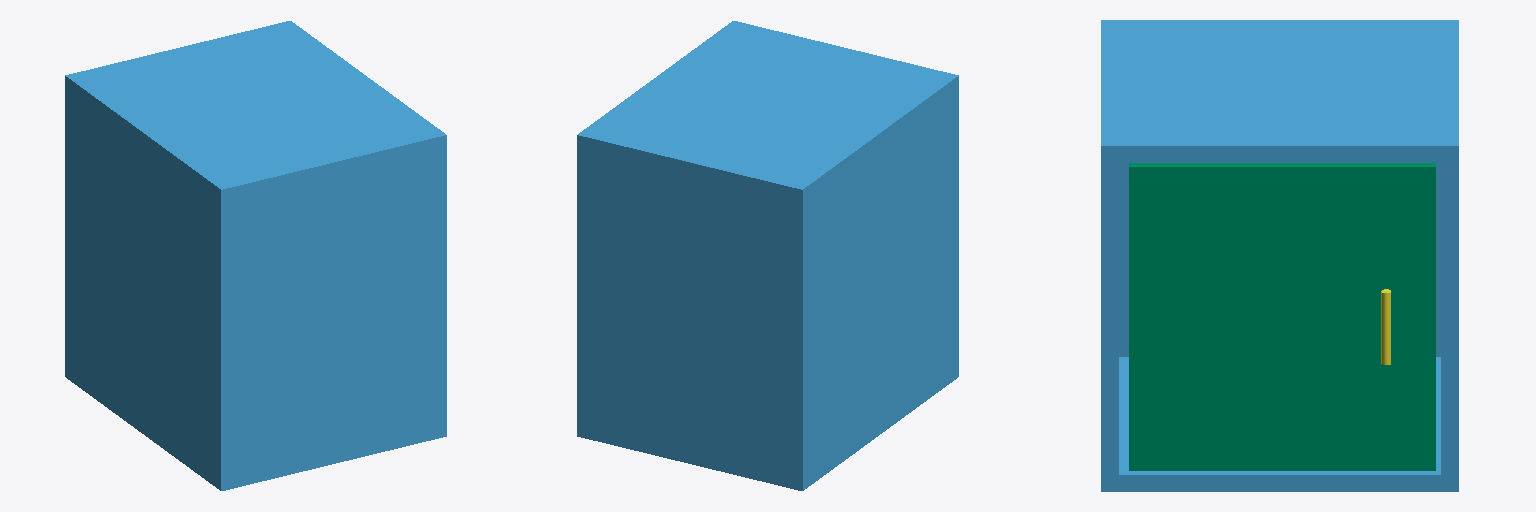
The robot description file, URDF, robot "my_cabinet":
<?xml version="1.0" ?>
<robot name="my_cabinet">
	<link name="world"/>
	<joint name="virtual_joint" type="fixed">
		<parent link="world"/>
		<child link="base_cabinet_link"/>
		<origin xyz="0.0 0.0 0.0" rpy="0.0 0.0 0.0"/>
	</joint>
	<link name="base_cabinet_link">
		<visual>
			<origin xyz="0.0 -0.0025 -0.18264492407501282" rpy="0.0 0.0 0.0"/>
			<geometry>
				<box size="0.3 0.3602608286722714 0.018"/>
			</geometry>
		</visual>
		<collision name="base_cabinet_link_collision_0">
			<origin xyz="0.0 -0.0025 -0.18264492407501282" rpy="0.0 0.0 0.0"/>
			<geometry>
				<box size="0.3 0.3602608286722714 0.018"/>
			</geometry>
		</collision>
		<visual>
			<origin xyz="0.0 0.1686304143361357 0.0" rpy="0.0 0.0 0.0"/>
			<geometry>
				<box size="0.3 0.018 0.38328984815002565"/>
			</geometry>
		</visual>
		<collision name="base_cabinet_link_collision_1">
			<origin xyz="0.0 0.1686304143361357 0.0" rpy="0.0 0.0 0.0"/>
			<geometry>
				<box size="0.3 0.018 0.38328984815002565"/>
			</geometry>
		</collision>
		<visual>
			<origin xyz="0.0 -0.1736304143361357 0.0" rpy="0.0 0.0 0.0"/>
			<geometry>
				<box size="0.3 0.018 0.38328984815002565"/>
			</geometry>
		</visual>
		<collision name="base_cabinet_link_collision_2">
			<origin xyz="0.0 -0.1736304143361357 0.0" rpy="0.0 0.0 0.0"/>
			<geometry>
				<box size="0.3 0.018 0.38328984815002565"/>
			</geometry>
		</collision>
		<visual>
			<origin xyz="0.0 -0.0025 0.18264492407501282" rpy="0.0 0.0 0.0"/>
			<geometry>
				<box size="0.3 0.3602608286722714 0.018"/>
			</geometry>
		</visual>
		<collision name="base_cabinet_link_collision_3">
			<origin xyz="0.0 -0.0025 0.18264492407501282" rpy="0.0 0.0 0.0"/>
			<geometry>
				<box size="0.3 0.3602608286722714 0.018"/>
			</geometry>
		</collision>
		<visual>
			<origin xyz="-0.141 -0.0025 0.0" rpy="0.0 0.0 0.0"/>
			<geometry>
				<box size="0.018 0.3602608286722714 0.38328984815002565"/>
			</geometry>
		</visual>
		<collision name="base_cabinet_link_collision_4">
			<origin xyz="-0.141 -0.0025 0.0" rpy="0.0 0.0 0.0"/>
			<geometry>
				<box size="0.018 0.3602608286722714 0.38328984815002565"/>
			</geometry>
		</collision>
		<inertial>
			<mass value="0.200000"/>
			<inertia ixx="0.004612" ixy="0.0" ixz="0.0" iyy="0.003949" iyz="0.0" izz="0.003663"/>
		</inertial>
	</link>
	<link name="door_link">
		<visual>
			<origin xyz="0.0 -0.1546304143361357 0.0"/>
			<geometry>
				<box size="0.018 0.3092608286722714 0.3372898481500256"/>
			</geometry>
		</visual>
		<collision name="door_link_collision">
			<origin xyz="0.0 -0.1546304143361357 0.0"/>
			<geometry>
				<box size="0.018 0.3092608286722714 0.3372898481500256"/>
			</geometry>
		</collision>
		<inertial>
			<mass value="0.200000"/>
			<inertia ixx="0.003490" ixy="0.0" ixz="0.0" iyy="0.001901" iyz="0.0" izz="0.001599"/>
		</inertial>
	</link>
	<joint name="door_joint" type="revolute">
		<origin xyz="0.141 -0.1546304143361357 0.0" rpy="0.000000 -0.000000 3.141593"/>
		<axis xyz="0 0 1"/>
		<parent link="base_cabinet_link"/>
		<child link="door_link"/>
		<limit effort="50" lower="-1.658062789394613" upper="0" velocity="10"/>
		<dynamics friction="3.5" damping="3.5"/>
	</joint>
	<link name="handle_link">
		<visual>
			<origin xyz="0.0 0.0 0.0" rpy="0.0 0.0 0.0"/>
			<geometry>
				<cylinder length="0.08" radius="0.005"/>
			</geometry>
		</visual>
		<collision name="handle_link_collision_0">
			<origin xyz="0.0 0.0 0.0" rpy="0.0 0.0 0.0"/>
			<geometry>
				<cylinder length="0.08" radius="0.005"/>
			</geometry>
		</collision>
		<visual>
			<origin xyz="-0.01 0.0 0.02" rpy="0.0 1.5707963267948966 0.0"/>
			<geometry>
				<cylinder length="0.02" radius="0.003"/>
			</geometry>
		</visual>
		<collision name="handle_link_collision_1">
			<origin xyz="-0.01 0.0 0.02" rpy="0.0 1.5707963267948966 0.0"/>
			<geometry>
				<cylinder length="0.01" radius="0.003"/>
			</geometry>
		</collision>
		<visual>
			<origin xyz="-0.01 0.0 -0.02" rpy="0.0 1.5707963267948966 0.0"/>
			<geometry>
				<cylinder length="0.02" radius="0.003"/>
			</geometry>
		</visual>
		<collision name="handle_link_collision_2">
			<origin xyz="-0.01 0.0 -0.02" rpy="0.0 1.5707963267948966 0.0"/>
			<geometry>
				<cylinder length="0.02" radius="0.003"/>
			</geometry>
		</collision>
		<inertial>
			<mass value="0.050000"/>
			<inertia ixx="0.000027" ixy="0.0" ixz="0.0" iyy="0.000029" iyz="0.0" izz="0.000003"/>
		</inertial>
	</link>
	<joint name="handle_joint" type="fixed">
		<origin xyz="-0.028999999999999998 -0.2592608286722714 0.0" rpy="0.000000 -0.000000 3.141593"/>
		<parent link="door_link"/>
		<child link="handle_link"/>
	</joint>
	<gazebo reference="base_cabinet_link">
		<sensor name="main_sensor" type="contact">
			<selfCollide>true</selfCollide>
			<alwaysOn>true</alwaysOn>
			<updateRate>5.0</updateRate>
			<material>Gazebo/Red</material>
			<contact>
				<collision>base_cabinet_link_collision_0_collision</collision>
				<collision>base_cabinet_link_collision_1_collision</collision>
				<collision>base_cabinet_link_collision_2_collision</collision>
				<collision>base_cabinet_link_collision_3_collision</collision>
				<collision>base_cabinet_link_collision_4_collision</collision>
			</contact>
			<plugin name="gazebo_ros_bumper_controller" filename="libgazebo_ros_bumper.so">
				<bumperTopicName>/contact</bumperTopicName>
				<frameName>world</frameName>
			</plugin>
		</sensor>
	</gazebo>
	<gazebo reference="door_link">
		<sensor name="main_sensor" type="contact">
			<selfCollide>true</selfCollide>
			<alwaysOn>true</alwaysOn>
			<updateRate>5.0</updateRate>
			<material>Gazebo/Red</material>
			<contact>
				<collision>door_link_collision_collision</collision>
			</contact>
			<plugin name="gazebo_ros_bumper_controller" filename="libgazebo_ros_bumper.so">
				<bumperTopicName>/contact_door</bumperTopicName>
				<frameName>contact_door</frameName>
			</plugin>
		</sensor>
	</gazebo>
	<gazebo reference="door_link">
		<mu>3.0</mu>
		<mu2>3.0</mu2>
		<kp>10000000</kp>
		<kd>100</kd>
	</gazebo>
</robot>

--- What the picture shows (computed from the rendered views, not written in the file) ---
Views: 3 orthographic renders of the robot side by side, from view 1: azimuth 30°, elevation 25°; view 2: azimuth 150°, elevation 25°; view 3: azimuth 270°, elevation 25°.
Robot: my_cabinet — 4 links, 3 joints (1 revolute, 2 fixed); root link world; default pose: all joints at 0.
Links seen in each view (by area): view 1: base_cabinet_link; view 2: base_cabinet_link; view 3: door_link, base_cabinet_link, handle_link.
Link boxes in pixels (left/top/right/bottom): base_cabinet_link: left=65, top=21, right=446, bottom=490; base_cabinet_link: left=577, top=21, right=958, bottom=490; door_link: left=1129, top=163, right=1435, bottom=470; base_cabinet_link: left=1101, top=20, right=1458, bottom=491; handle_link: left=1381, top=289, right=1390, bottom=364.
Bounding box of the posed robot: 0.325 × 0.3603 × 0.3833 m (x, y, z).
Geometry: primitives only (box / cylinder / sphere), no mesh files.
